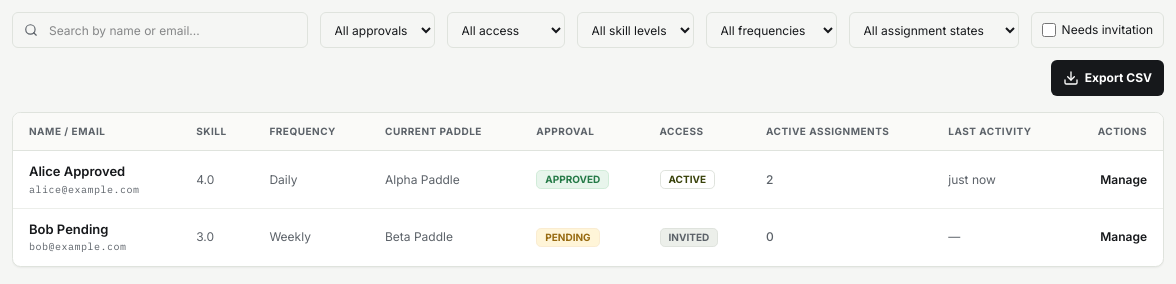
Test case: TesterDirectoryTable (Sprint 1 revision, Step 5) › filters by search term (name)
Step 1. Type "Alice" into the field with placeholder "Search by name or email..." → (160, 30), box [12,12,308,48]
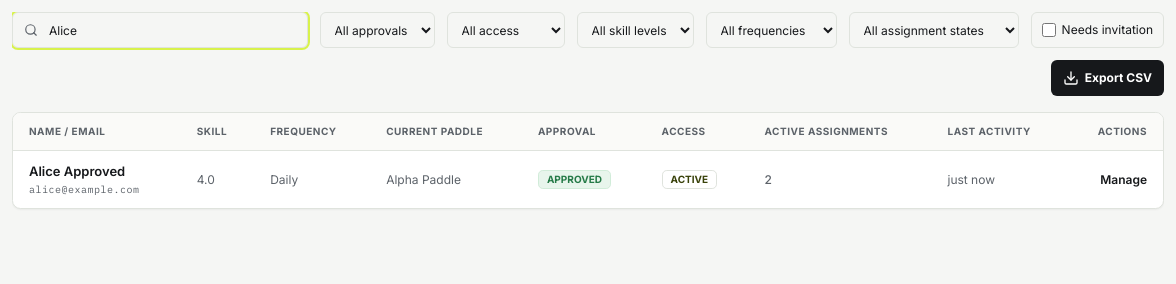
Expected: the text "Alice Approved" is shown, [29,163,125,179]
Expected: the text "Bob Pending" is gone
